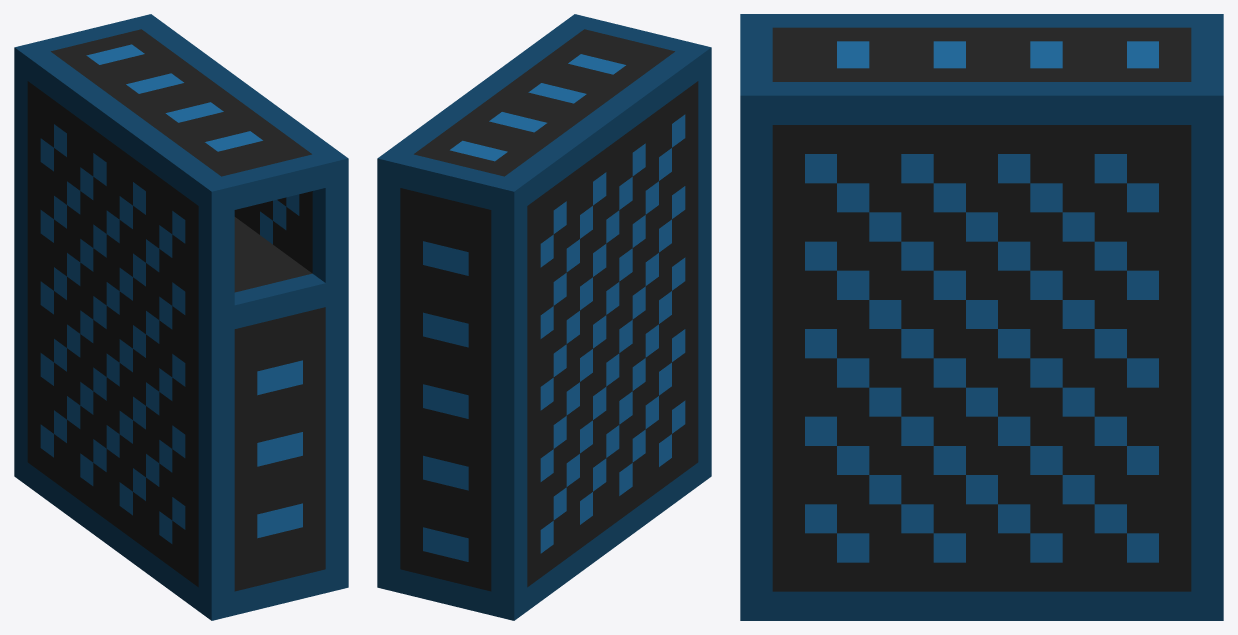
Rendered from Piston-1.obj.
3 renders of one model, left to right at view 1: azimuth 30°, elevation 25°; view 2: azimuth 150°, elevation 25°; view 3: azimuth 270°, elevation 25°, orthographic. The views are drawn at different scales.
Parts seen in each view (by area): view 1: Piston-1; view 2: Piston-1; view 3: Piston-1.
Boxes of the visible parts, left/top/right/bottom form: Piston-1: left=14, top=14, right=348, bottom=620; Piston-1: left=377, top=14, right=711, bottom=620; Piston-1: left=740, top=14, right=1223, bottom=620.
Size of the model in its own units: 6 by 18 by 15.
1 material, 1 textured.
